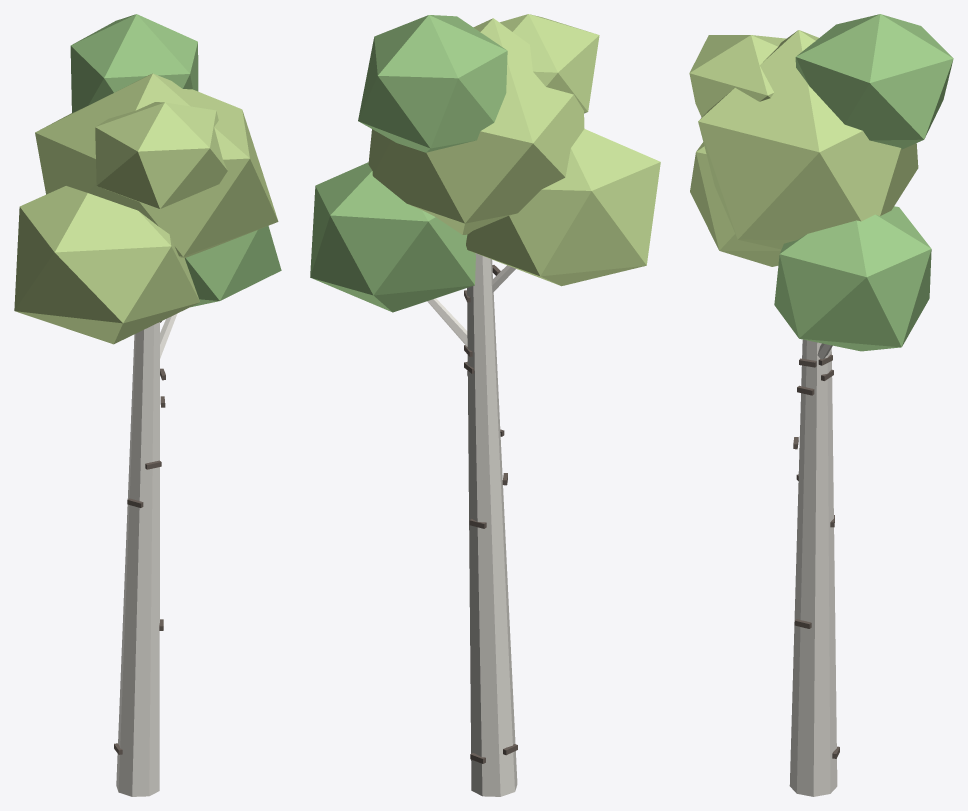
Rendered from Tree_Birch.fbx.
The picture shows the model from 3 angles, left to right: view 1: azimuth 30°, elevation 25°; view 2: azimuth 150°, elevation 25°; view 3: azimuth 270°, elevation 25°; orthographic projection. The views are drawn at different scales.
Parts seen in each view (by area): view 1: Tree_Birch_Mesh; view 2: Tree_Birch_Mesh; view 3: Tree_Birch_Mesh.
Boxes of the visible parts, left/top/right/bottom form: Tree_Birch_Mesh: left=14, top=14, right=281, bottom=796; Tree_Birch_Mesh: left=310, top=14, right=660, bottom=796; Tree_Birch_Mesh: left=689, top=14, right=953, bottom=796.
Bounding box in the file's own units: 3.13 × 8.04 × 2.44.
